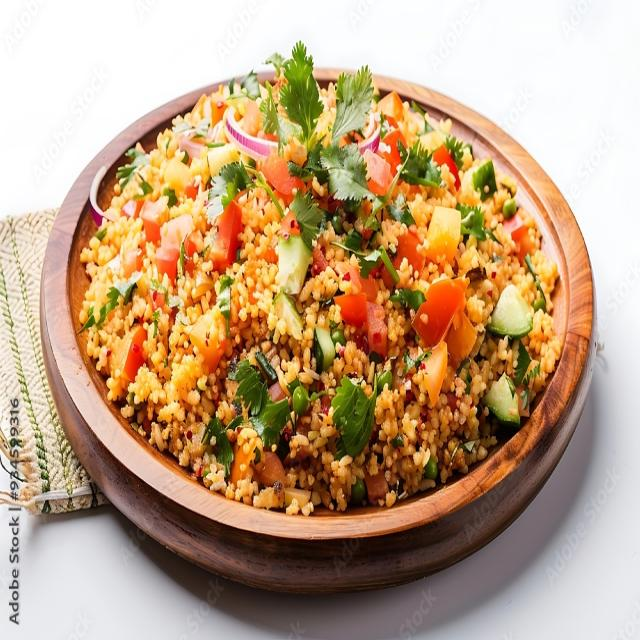SAMOSA: (81, 218, 117, 393)
